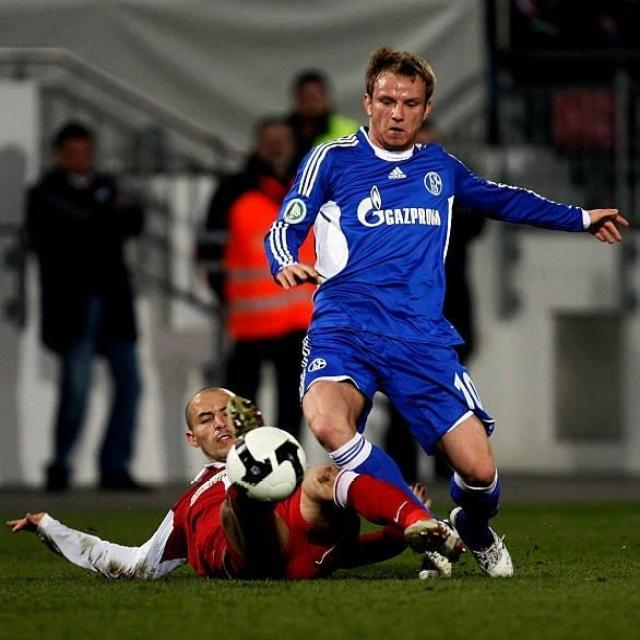ball: (218, 426, 302, 506)
player: (274, 49, 616, 587), (2, 388, 456, 598)
